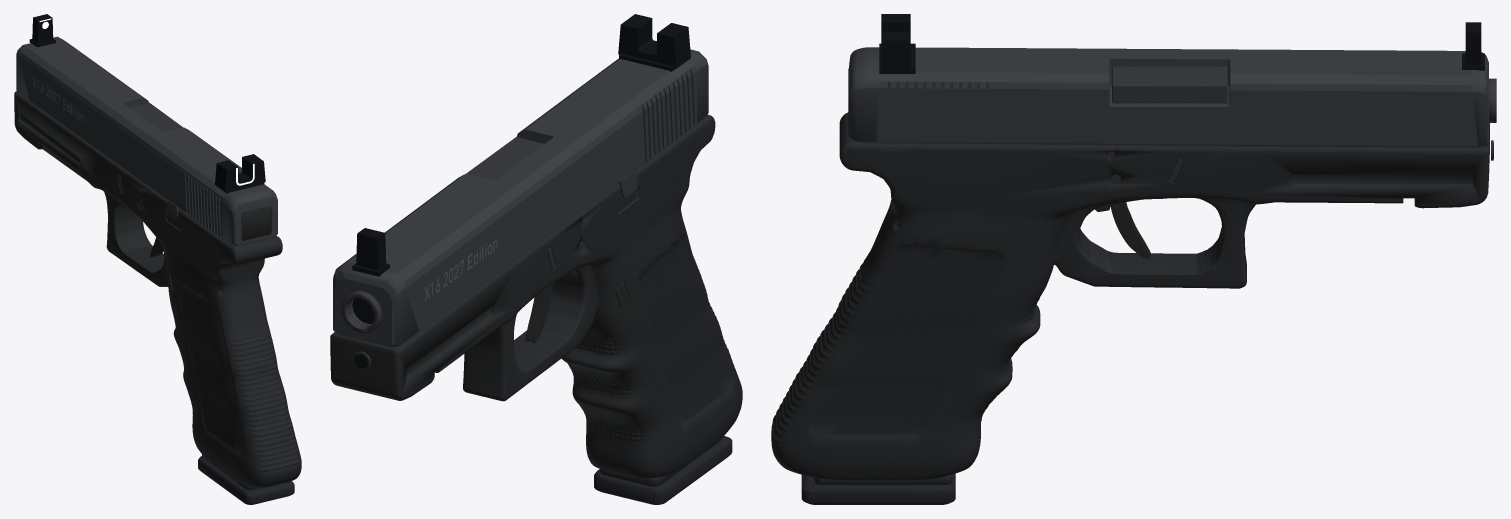
The model's file is X16-2027-Edition_FP.fbx.
3 renders of one model, left to right at view 1: azimuth 30°, elevation 25°; view 2: azimuth 150°, elevation 25°; view 3: azimuth 270°, elevation 25°, orthographic. The views are drawn at different scales.
Visible parts, largest first — view 1: FP_Frame_B, FP_Slide_Mesh, FP_Frame_A, FP_Magazine_Mesh, FP_Barrel_Mesh; view 2: FP_Slide_Mesh, FP_Frame_A, FP_Frame_B, FP_Magazine_Mesh, FP_Barrel_Mesh, FP_Trigger_Mesh; view 3: FP_Slide_Mesh, FP_Frame_B, FP_Frame_A, FP_Barrel_Mesh, FP_Magazine_Mesh, FP_Trigger_Mesh.
Part boxes in pixels (bbox=[...]): FP_Frame_B: bbox=[168, 209, 301, 487]; FP_Slide_Mesh: bbox=[16, 14, 277, 245]; FP_Frame_A: bbox=[14, 91, 211, 377]; FP_Magazine_Mesh: bbox=[198, 454, 294, 504]; FP_Barrel_Mesh: bbox=[129, 102, 183, 132]; FP_Slide_Mesh: bbox=[333, 14, 708, 347]; FP_Frame_A: bbox=[330, 166, 684, 420]; FP_Frame_B: bbox=[580, 114, 742, 478]; FP_Magazine_Mesh: bbox=[594, 435, 732, 504]; FP_Barrel_Mesh: bbox=[341, 137, 543, 333]; FP_Trigger_Mesh: bbox=[525, 283, 553, 343]; FP_Slide_Mesh: bbox=[848, 14, 1488, 147]; FP_Frame_B: bbox=[771, 112, 1035, 480]; FP_Frame_A: bbox=[978, 123, 1493, 397]; FP_Barrel_Mesh: bbox=[1112, 66, 1496, 122]; FP_Magazine_Mesh: bbox=[801, 473, 955, 504]; FP_Trigger_Mesh: bbox=[1095, 202, 1150, 259].
Size of the model in its own units: 15.72 by 84.26 by 120.
Materials: 5 (5 with a texture image).
